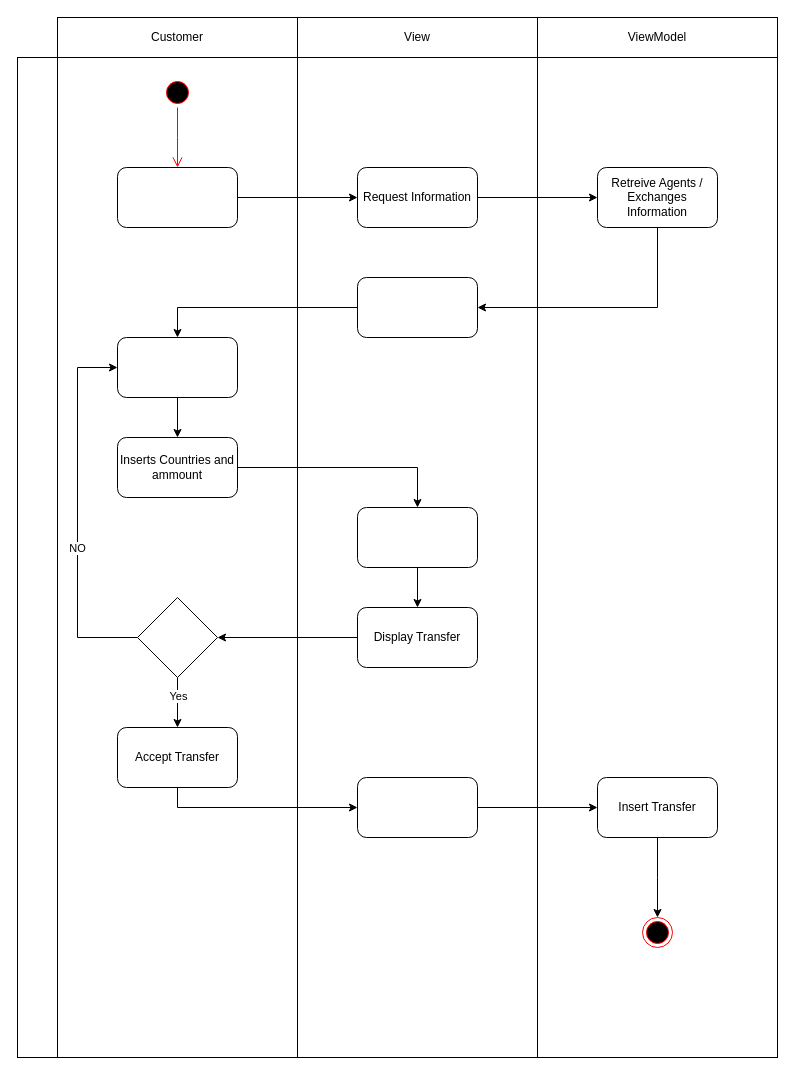
This 795x1075 diagram has some shape labels left out. Here are the shapes that lost their labels. From the top down, the centre of each, then its label:
the point at 177,197: Join Transfer Page
the point at 417,307: Display Information available Exchanges / Agents
the point at 177,367: Selects Exchange and Agent
the point at 417,537: Calculate conversion
the point at 417,807: Create Transfer
